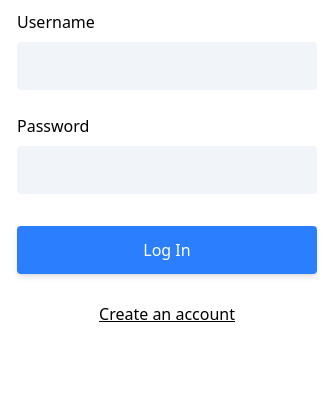
it: Login › validates missing username and password
Click the button.
click(167, 250)  # box [17,226,317,274]
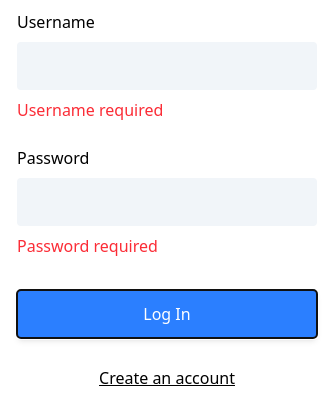
Now the text "Username required" is shown, box [17,99,163,121]
Now the text "Password required" is shown, box [17,235,158,257]
